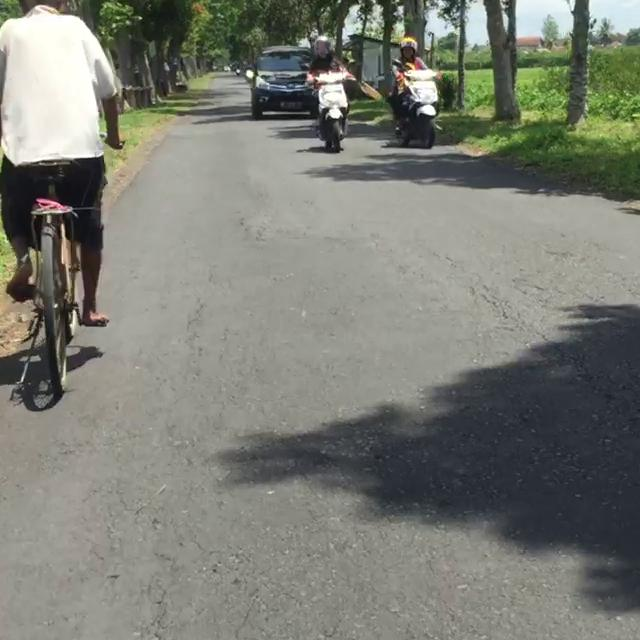retak_memanjang: (490, 292, 640, 640)
